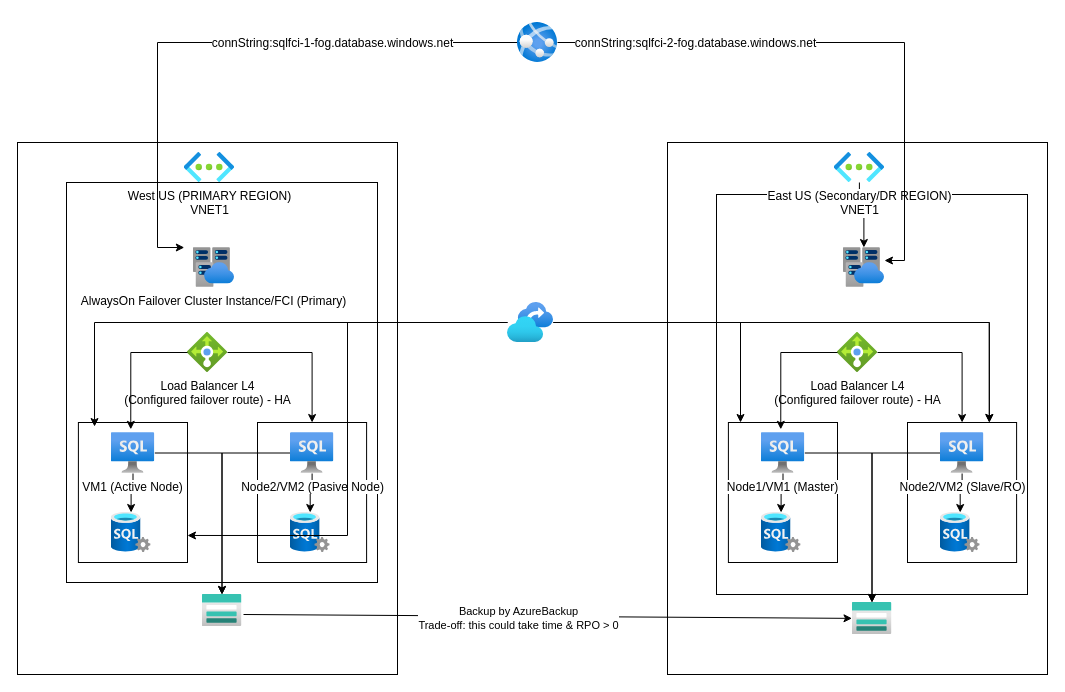
Some shapes in this 1065 by 692 pixel diagram are drawn without their labels. Each missing label, with the centre of its shape:
AlwaysOn Failover Cluster Instance/FCI (Secondary): (x=863, y=267)
Azure Site Recovery (ASR) - DR Replicates: VM1 & VM2: (x=530, y=322)
Client: (x=537, y=42)
FileStorage SMB Premium (Primary): (x=222, y=610)
FileStorage SMB Premium (Secondary): (x=872, y=618)
